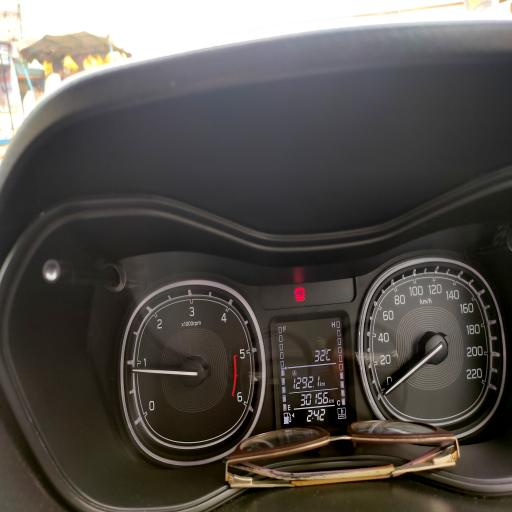brake_system_fault: (295, 287, 305, 301)
tachometer: (120, 281, 265, 466)
